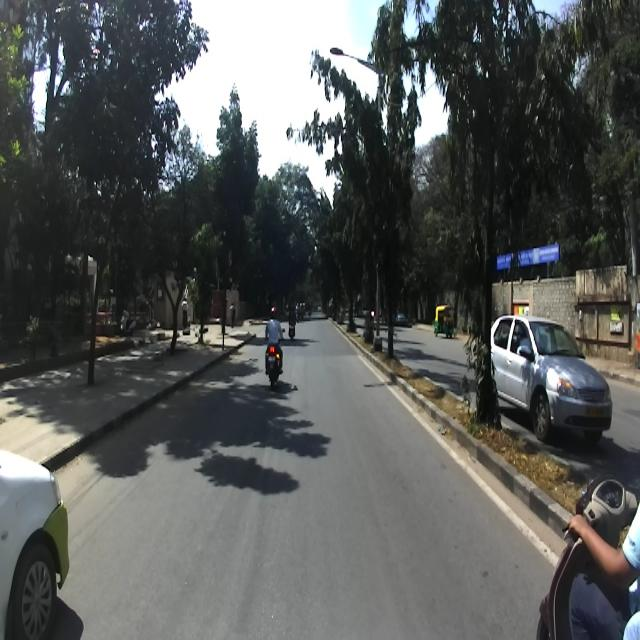car: (490, 313, 612, 443), (0, 434, 70, 638)
motorcycle: (264, 326, 286, 389)
scooter: (534, 473, 640, 639)
